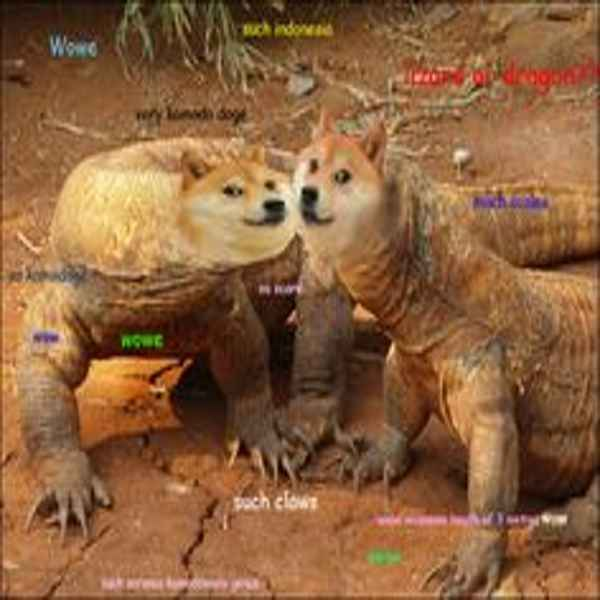doge: (289, 119, 394, 244), (178, 144, 293, 251)
